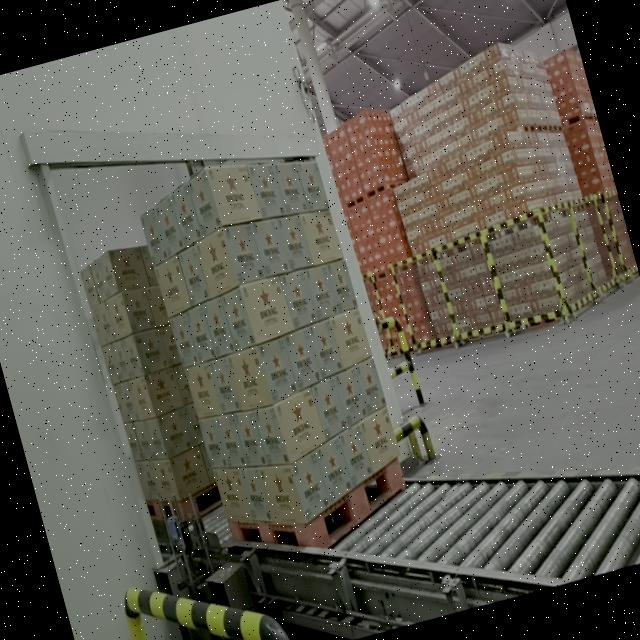pallet: (125, 128, 419, 574), (75, 234, 231, 536)
